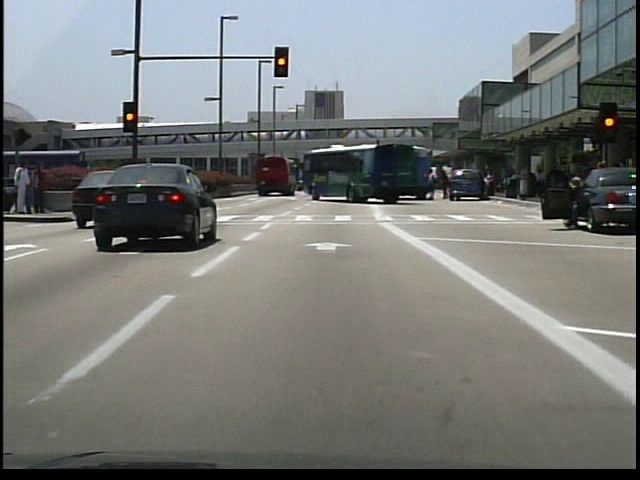person: (560, 172, 591, 232), (14, 161, 35, 215), (31, 162, 49, 220), (423, 167, 437, 201), (481, 169, 493, 200)
